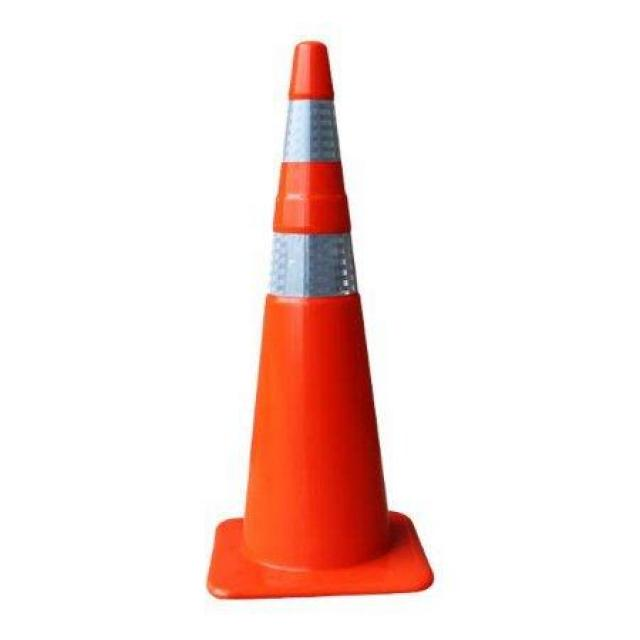cone: (168, 23, 444, 610), (197, 50, 425, 608)
